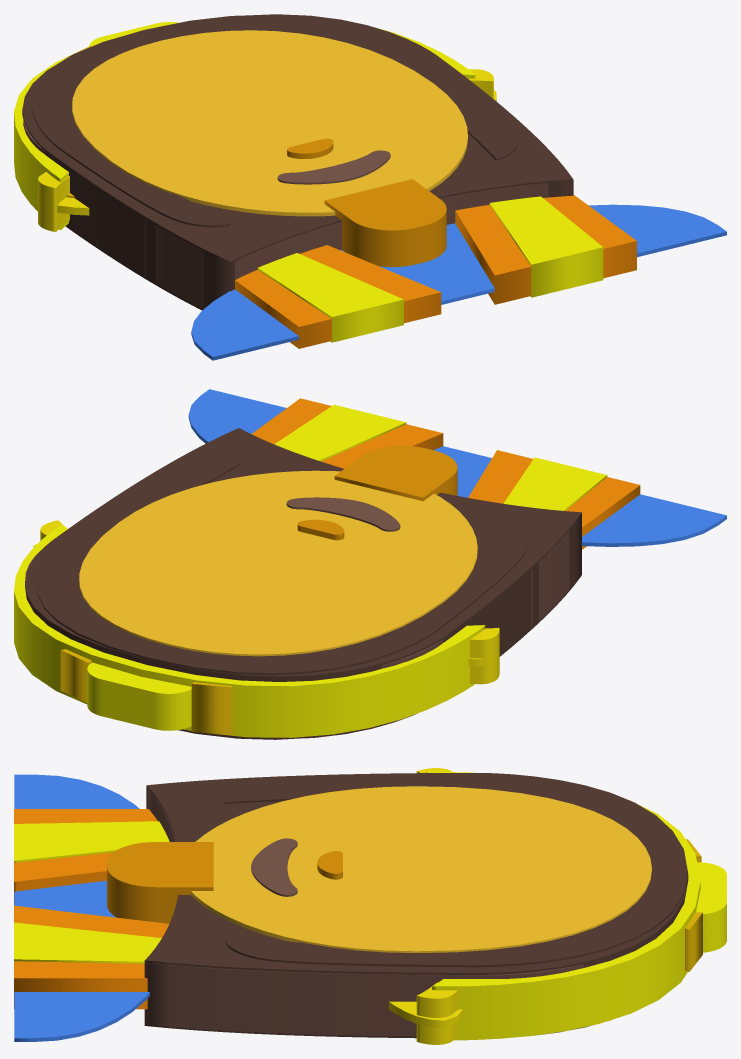
File: emoji_u1f477_200d_2640.glb
The picture shows the model from 3 angles, top to bottom: view 1: azimuth 30°, elevation 25°; view 2: azimuth 150°, elevation 25°; view 3: azimuth 270°, elevation 25°; orthographic projection. The views are drawn at different scales.
Visible parts, largest first — view 1: emoji_u1f477_200d_2640; view 2: emoji_u1f477_200d_2640; view 3: emoji_u1f477_200d_2640.
Boxes of the visible parts, bbox=[...] form: emoji_u1f477_200d_2640: bbox=[14, 14, 726, 360]; emoji_u1f477_200d_2640: bbox=[14, 389, 726, 739]; emoji_u1f477_200d_2640: bbox=[14, 768, 726, 1044].
Bounding box in the file's own units: 0.0294 × 0.0044 × 0.0335.
